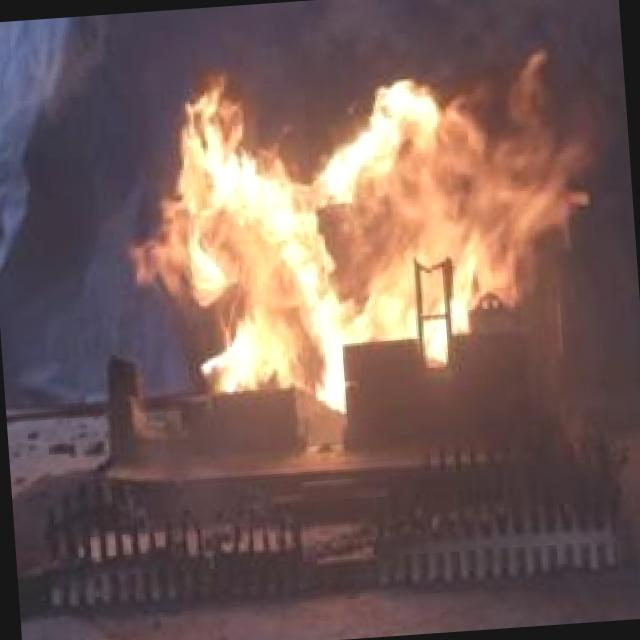fire: (121, 25, 554, 402)
